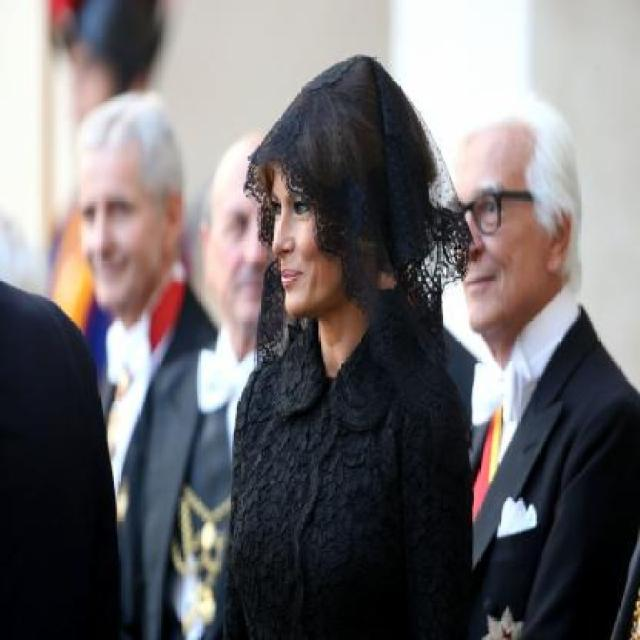sem_oculos: (442, 187, 583, 246), (235, 185, 363, 232), (67, 192, 196, 238)
